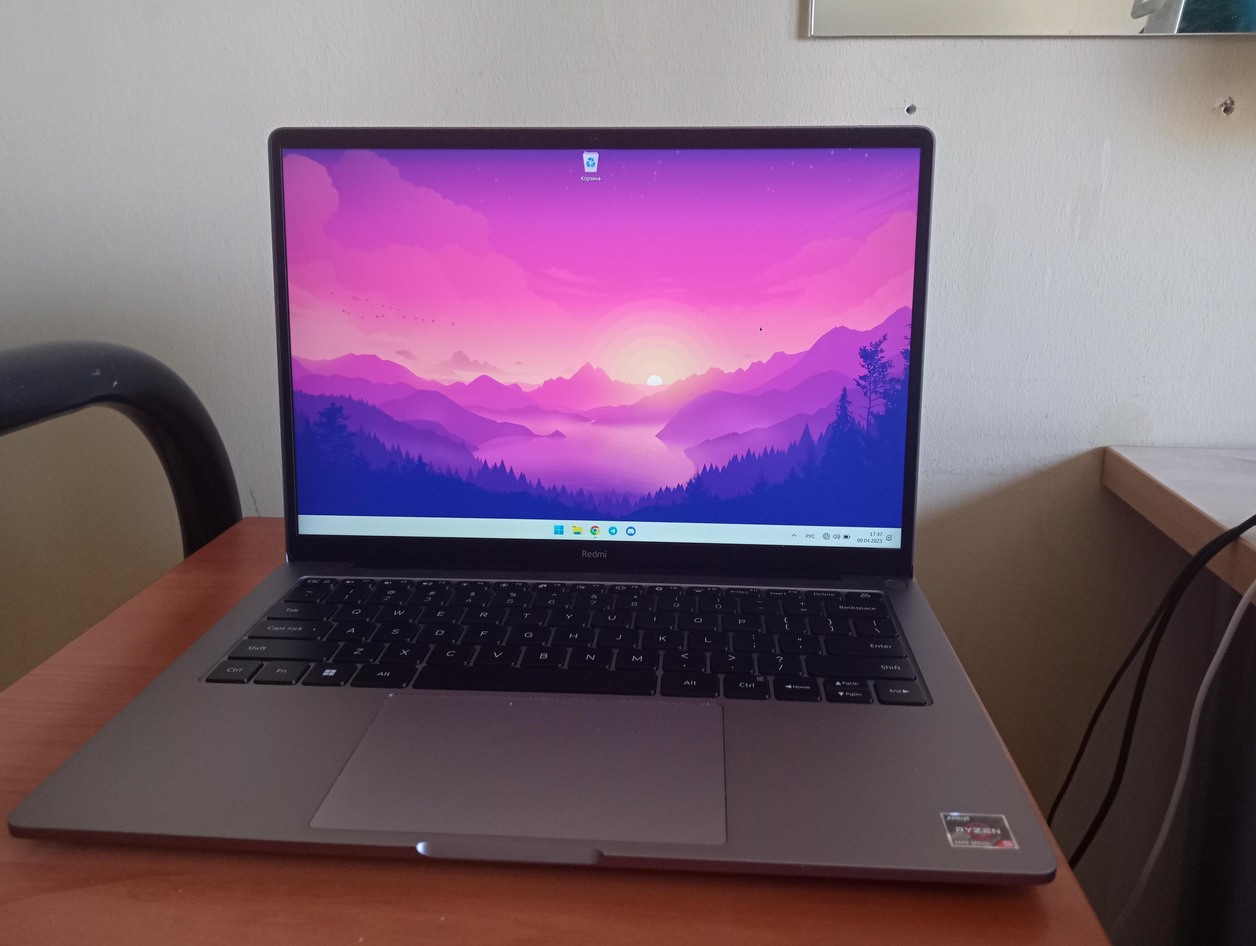monitor: (262, 117, 937, 590)
